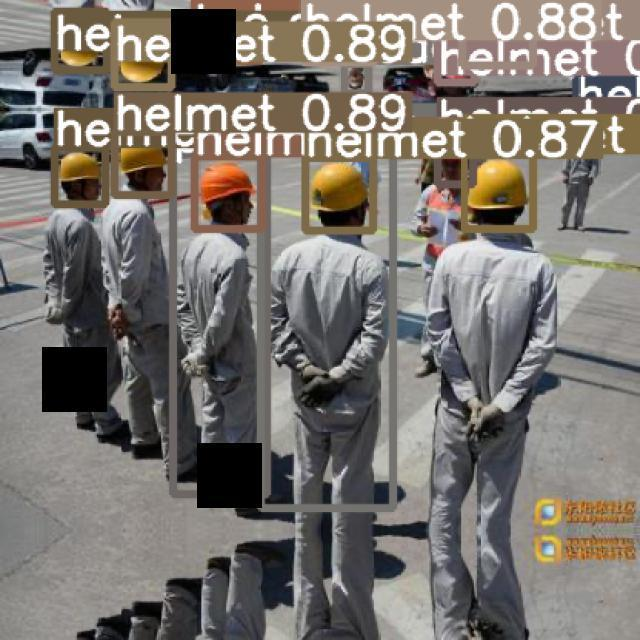helmet: (466, 158, 527, 210), (310, 162, 367, 212), (199, 163, 255, 204), (118, 146, 165, 173), (58, 152, 100, 182)
